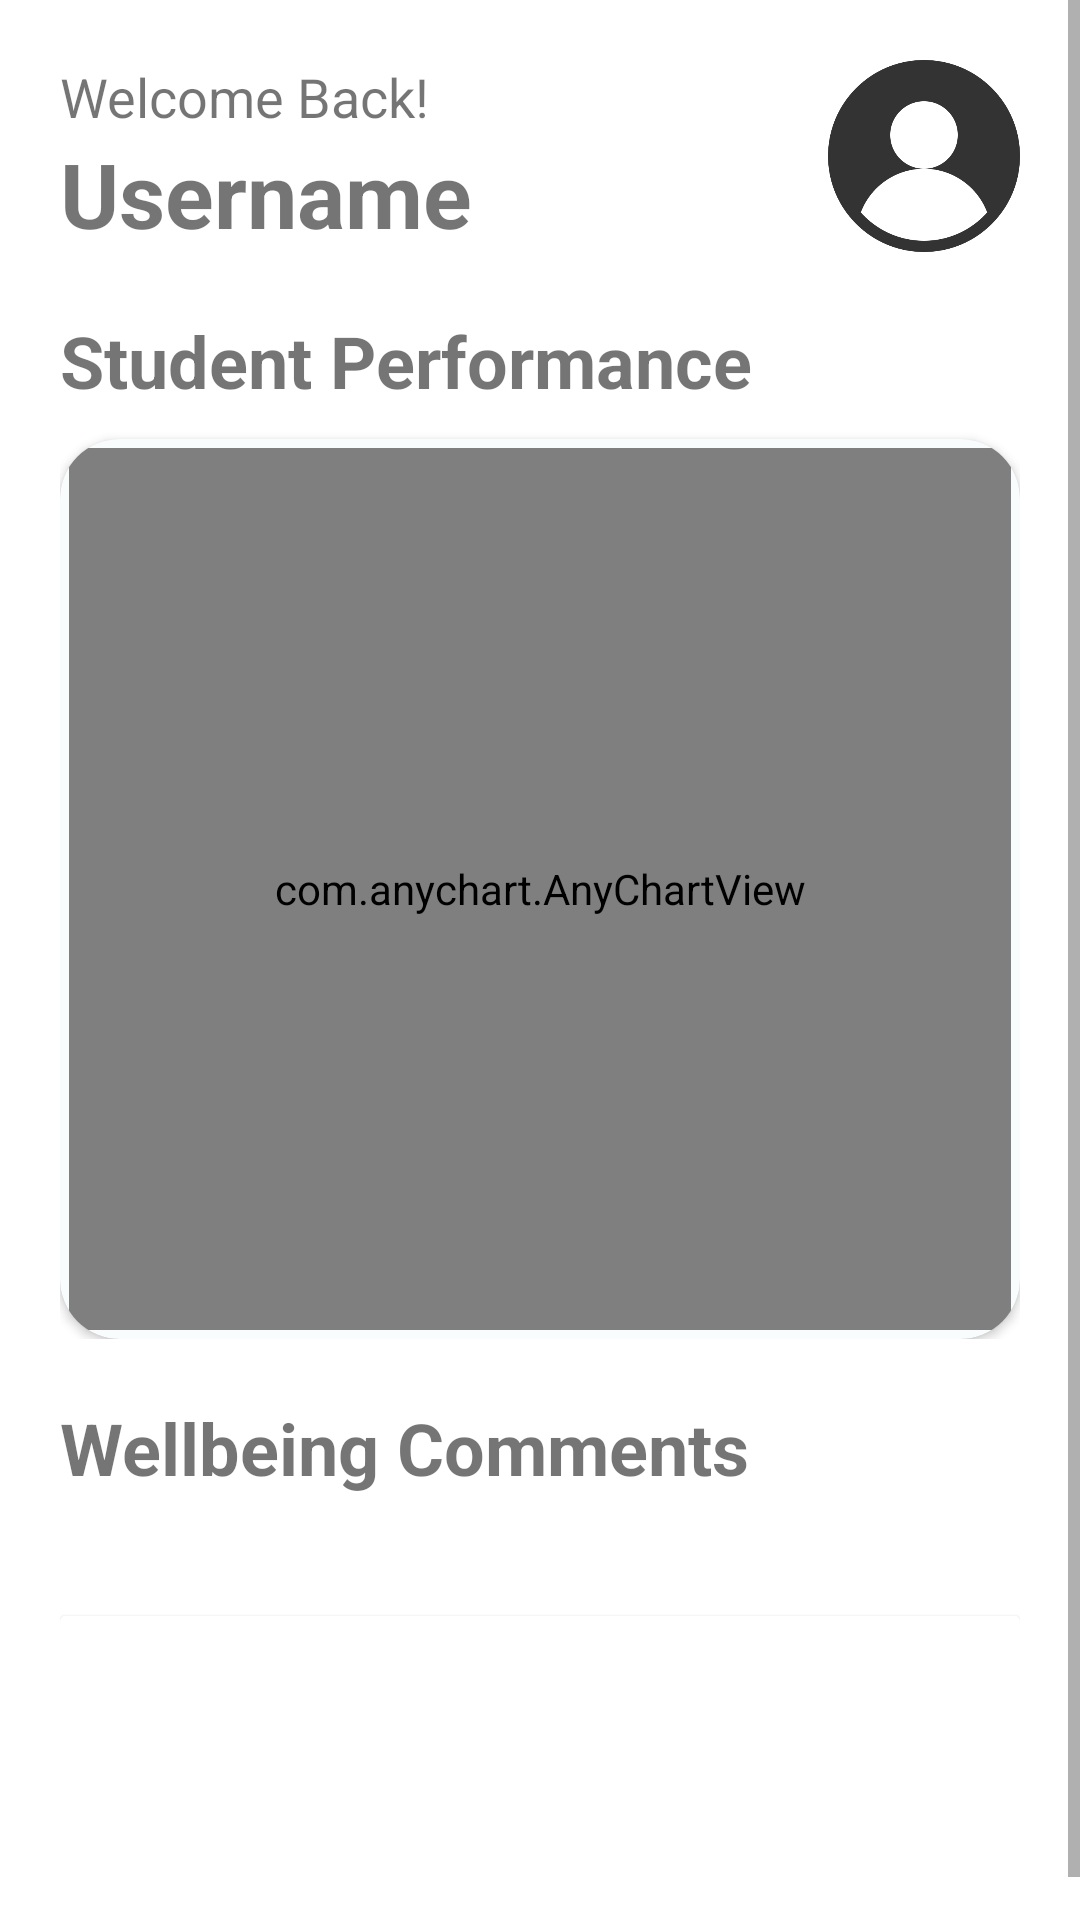

Point at icon controls on the screen. Image size 1080x1920, points as (x=x, y=y).
profile pic: (x=924, y=156)
